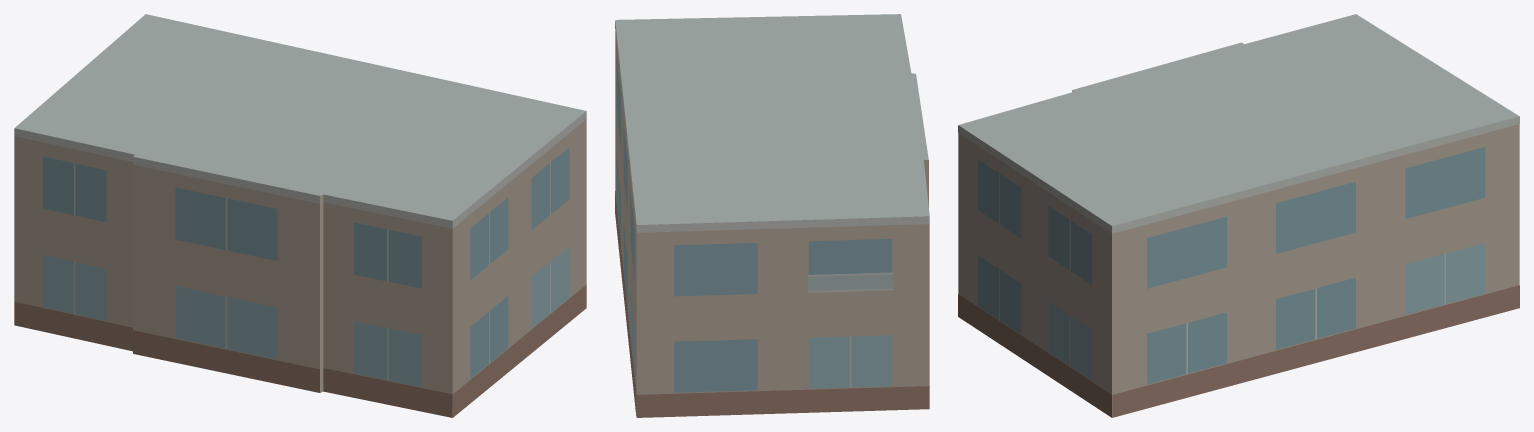
The model's file is survey-upis-32967070.glb.
3 views of the same model, side by side, from view 1: azimuth 30°, elevation 25°; view 2: azimuth 150°, elevation 25°; view 3: azimuth 270°, elevation 25° (orthographic). The views are drawn at different scales.
Visible parts, largest first — view 1: survey-upis-32967070.tmp; view 2: survey-upis-32967070.tmp; view 3: survey-upis-32967070.tmp.
Boxes of the visible parts, x1,y1,x2,y2 form: survey-upis-32967070.tmp: (14, 14, 586, 417); survey-upis-32967070.tmp: (615, 14, 929, 417); survey-upis-32967070.tmp: (958, 14, 1519, 417).
Size of the model in its own units: 14.49 by 6.1 by 16.21.
